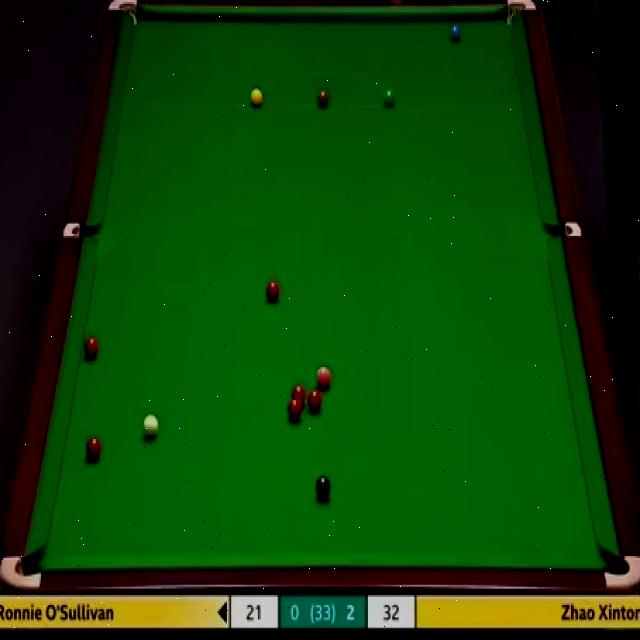black-ball: (314, 475, 331, 499)
blue-ball: (450, 24, 461, 45)
brown-ball: (316, 90, 330, 107)
green-ball: (382, 86, 397, 110)
pink-ball: (316, 364, 332, 389)
red-ball: (81, 335, 100, 361), (307, 389, 323, 413), (84, 437, 101, 458), (292, 384, 306, 408), (264, 280, 280, 300), (288, 398, 302, 419)
white-ball: (140, 414, 160, 439)
yellow-ball: (249, 88, 264, 109)
